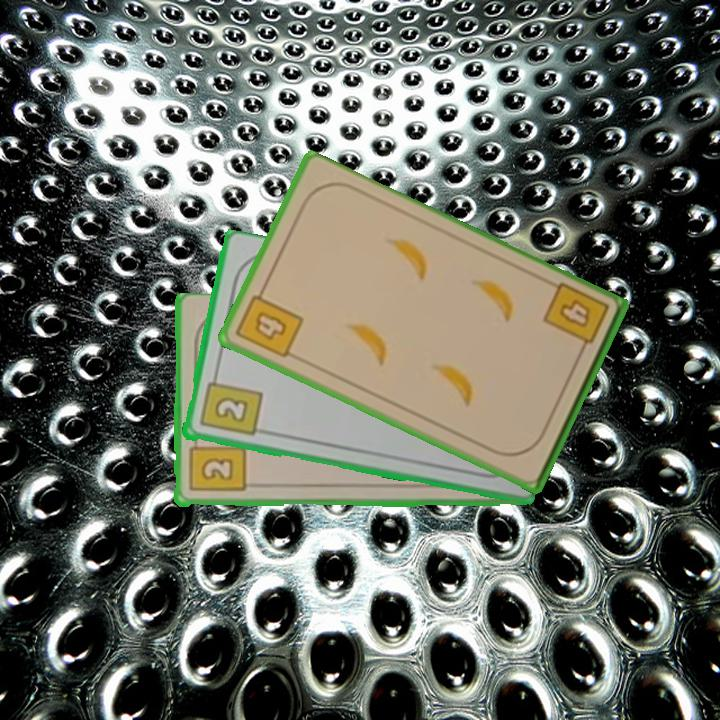2b: (196, 370, 264, 439), (186, 434, 247, 495)
4b: (232, 283, 307, 362), (539, 279, 612, 360)
